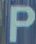Parking: (7, 2, 34, 43)
